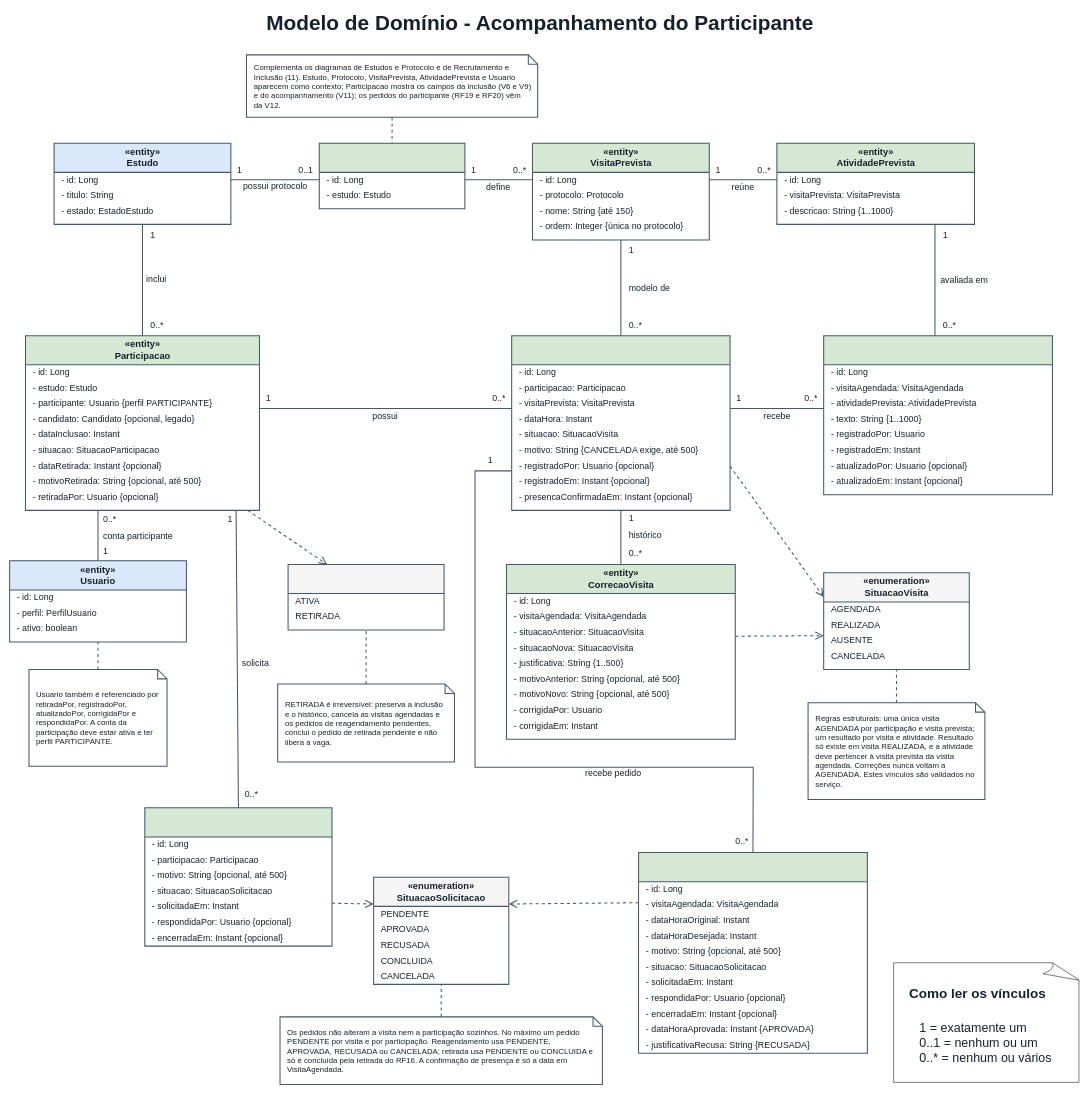
The diagram is 1090 pixels wide and 1094 high, and some of its shapes have lost their labels. The shapes that lost their labels are listed below. From the top down, each one's box as (x1, y1, x2, y2) in pixels, then its label:
(318, 142, 465, 209): «entity» Protocolo
(511, 335, 730, 511): «entity» VisitaAgendada
(823, 335, 1053, 495): «entity» ResultadoAtividade
(287, 564, 444, 630): «enumeration» SituacaoParticipacao
(144, 807, 332, 946): «entity» SolicitacaoRetirada
(638, 852, 868, 1054): «entity» SolicitacaoReagendamento
